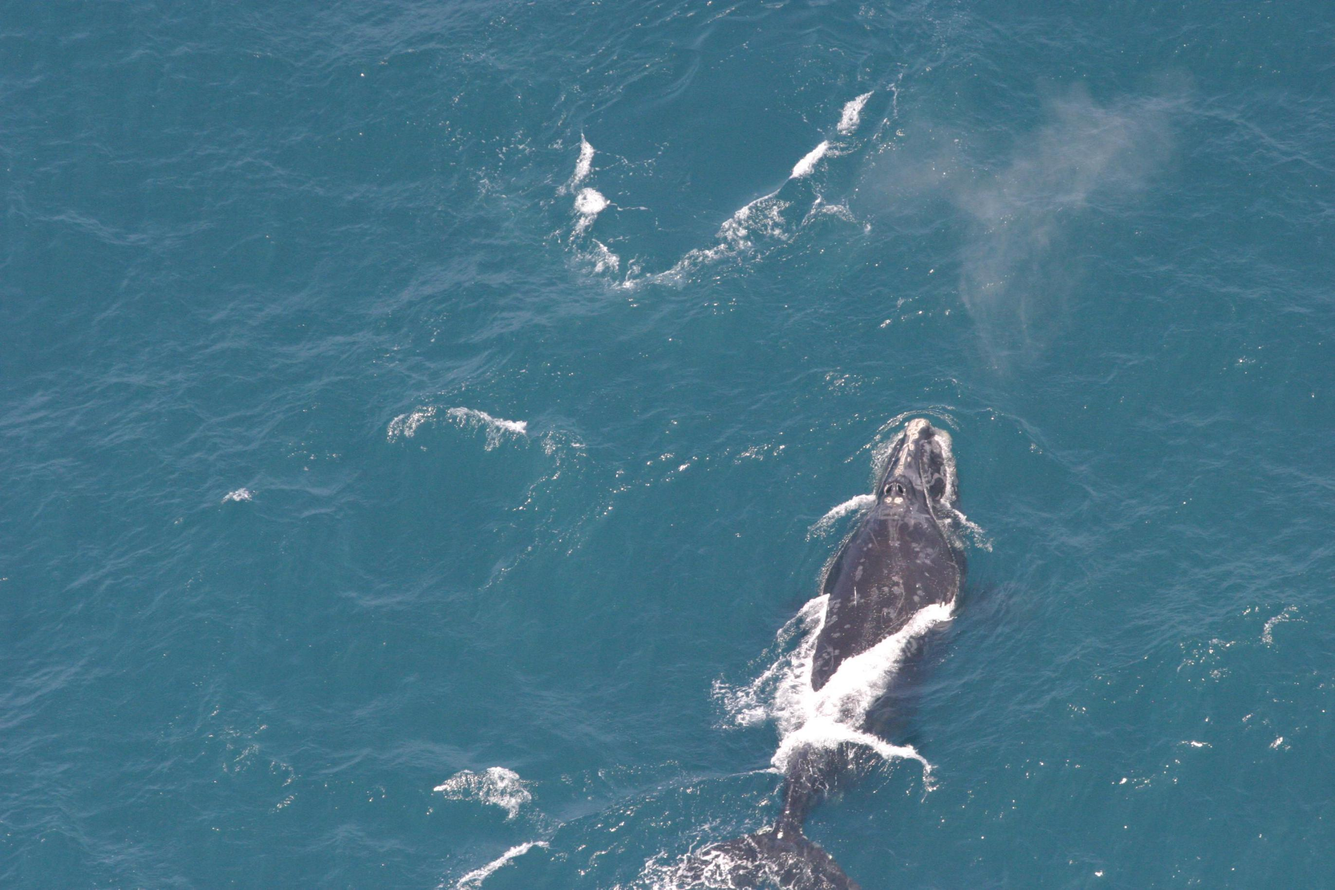whale: (663, 411, 1019, 890)
